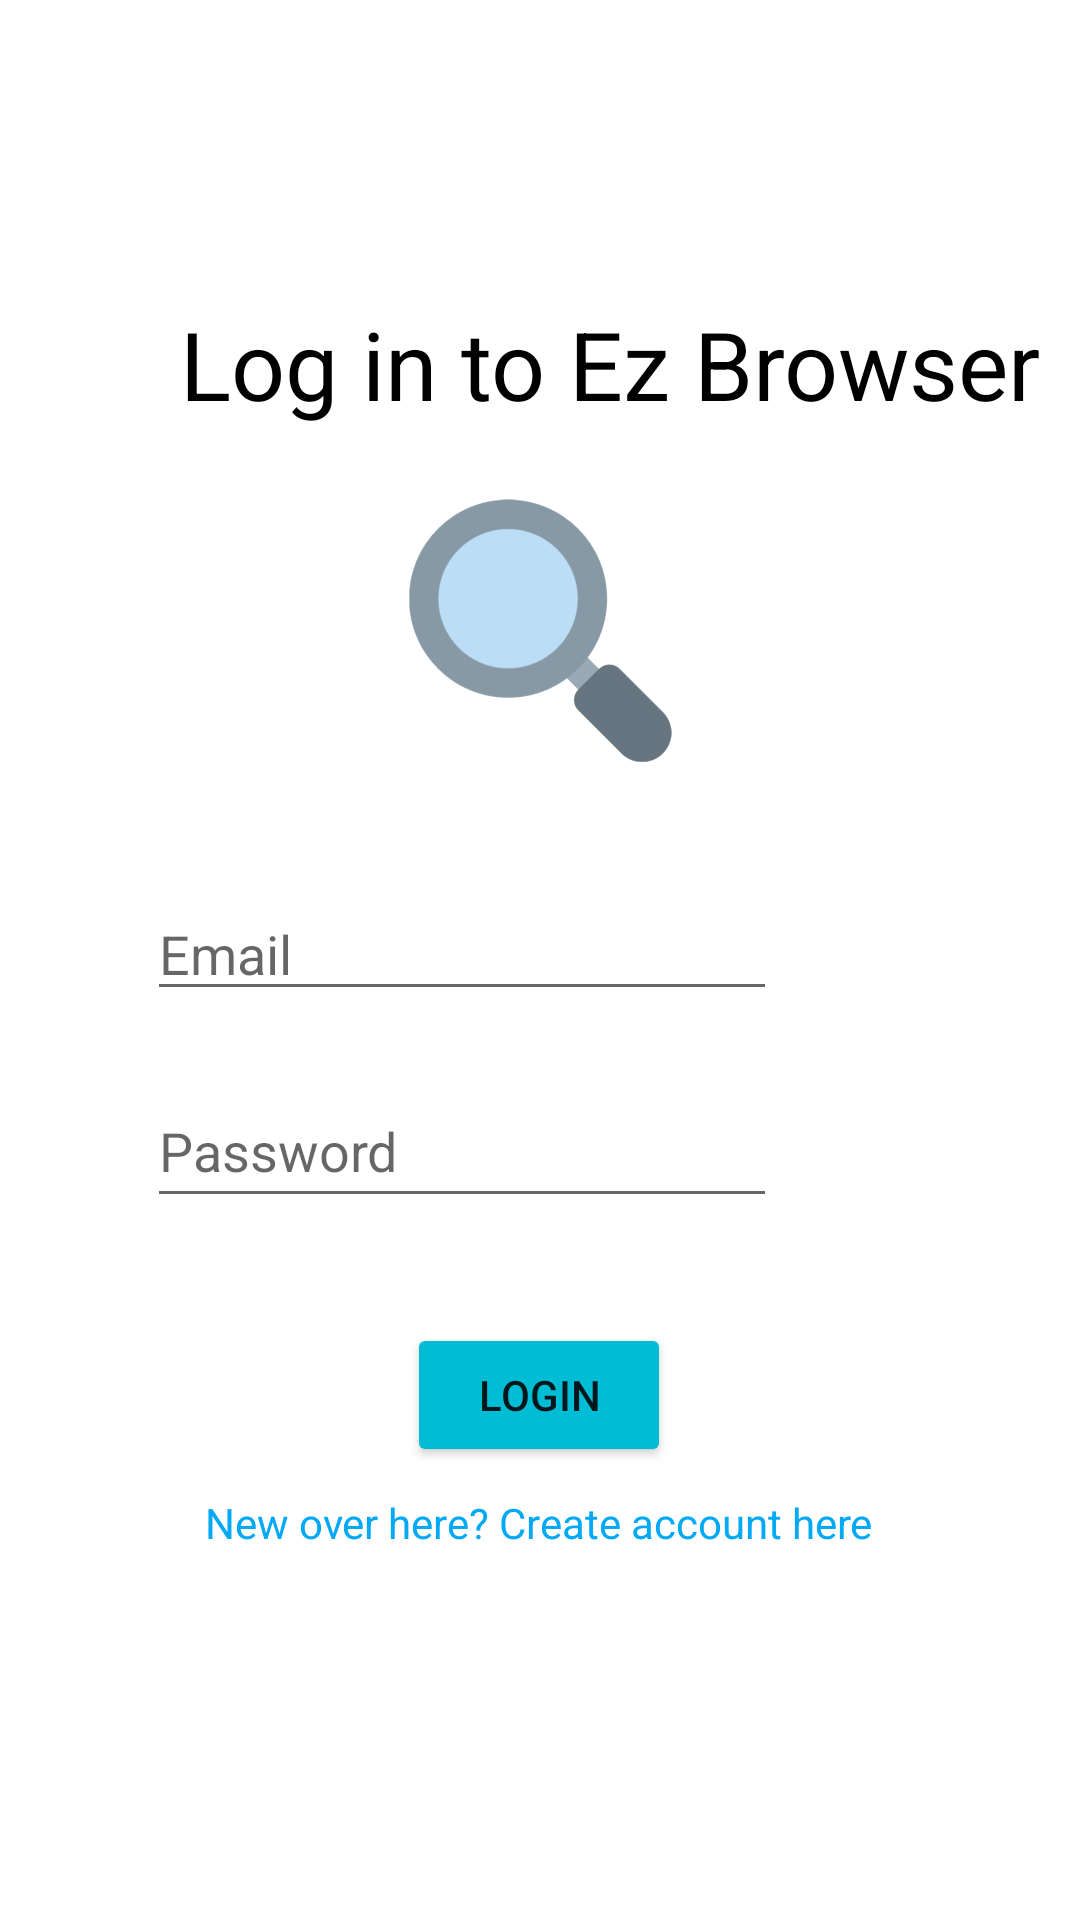

Icons on this 1080w x 1920h Android screen, each with its box as box(x1, y1, x2, y2):
magnifyingglass: box(409, 499, 672, 762)
